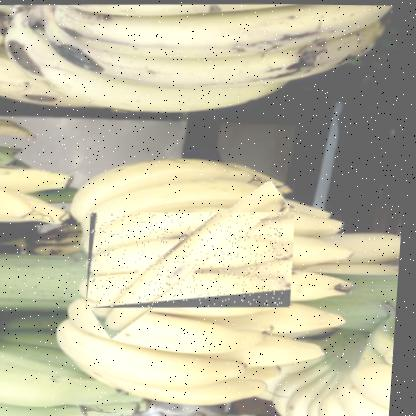banana: (88, 206, 300, 309)
